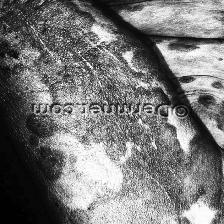Toxin: (40, 26, 154, 98), (36, 116, 190, 144), (0, 1, 52, 68), (140, 155, 198, 196), (35, 0, 95, 24), (213, 164, 224, 224), (97, 218, 182, 224)
